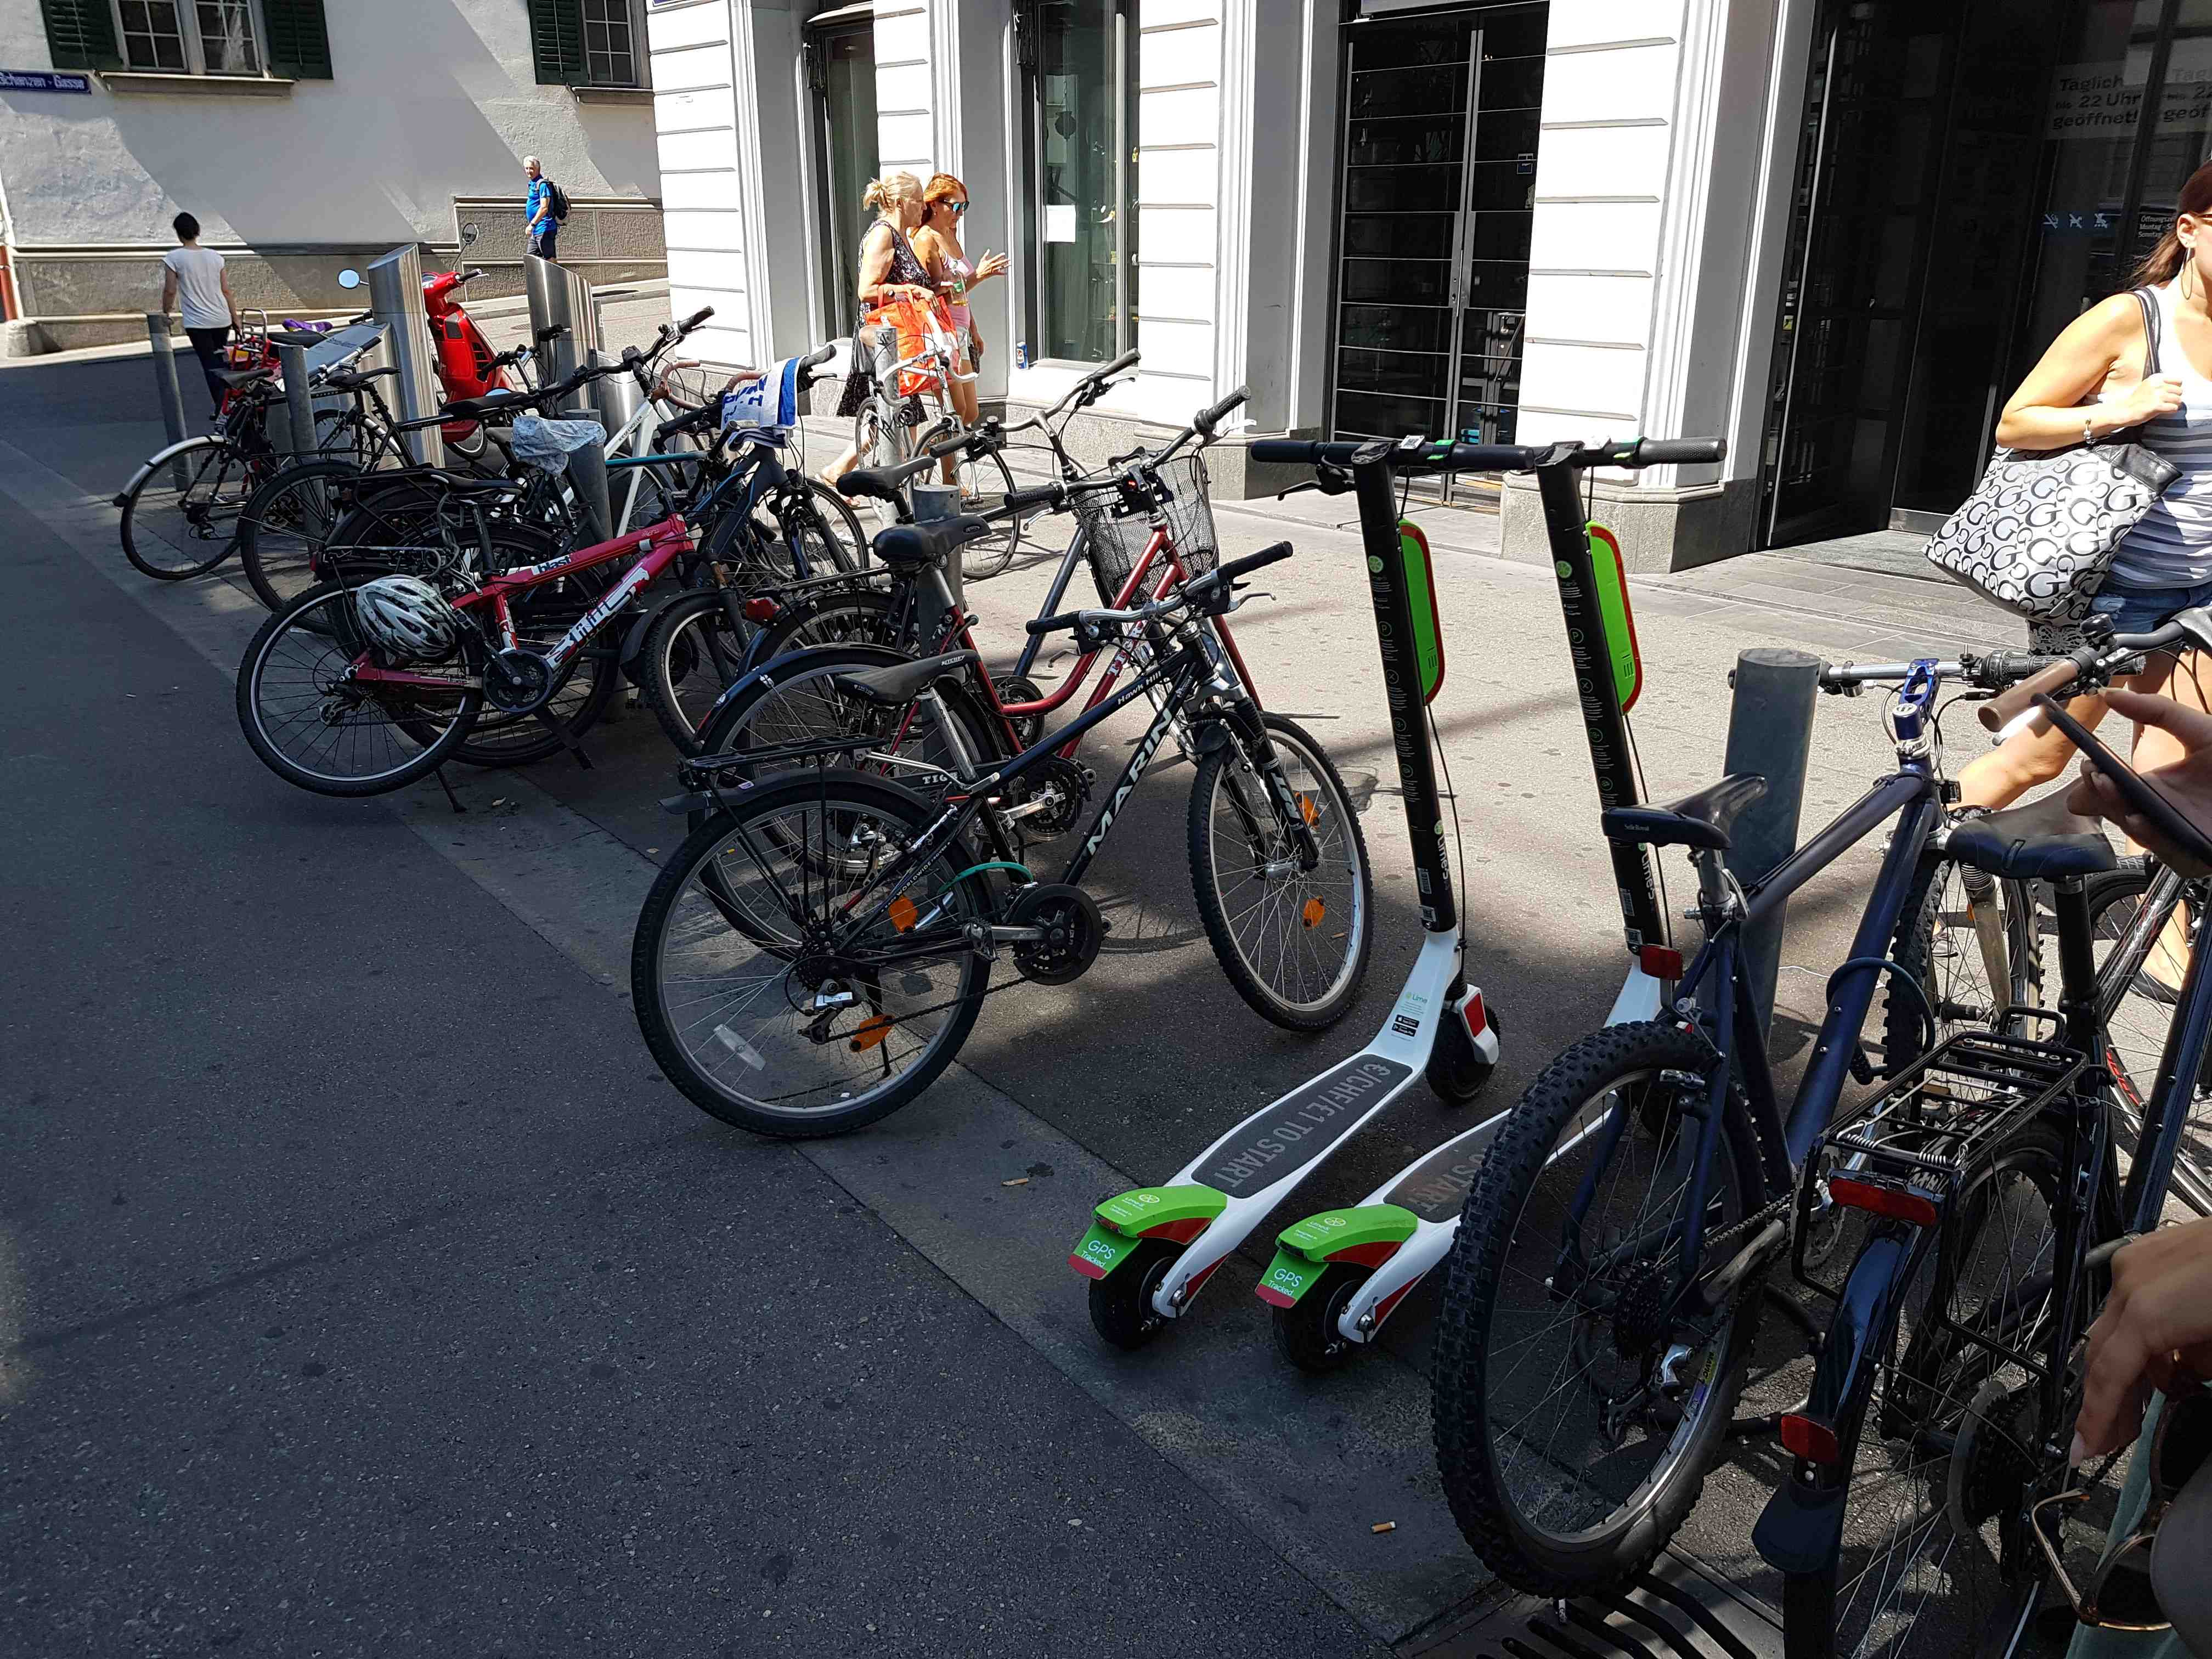scooter: (1096, 429, 1641, 1370)
